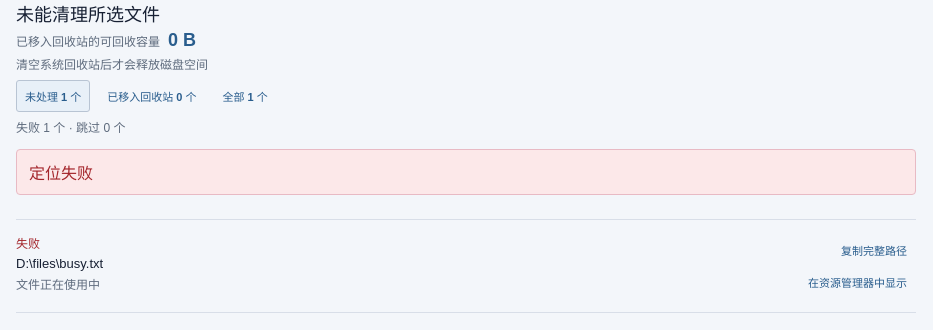
it: 清理结果 › 全部失败不显示清理完成，空筛选给出明确反馈
The image size is (933, 330).
Expected: the heading "未能清理所选文件" is shown, left=16, top=5, right=160, bottom=25
Expected: the message reads "定位失败", left=29, top=165, right=93, bottom=182
Click the button "已移入回收站 0 个" at (152, 96), box left=98, top=80, right=206, bottom=112
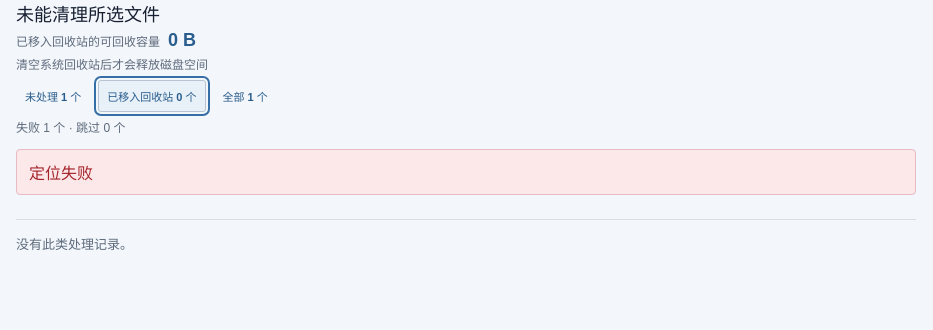
Now the text "没有此类处理记录。" is shown, box left=16, top=237, right=133, bottom=252
